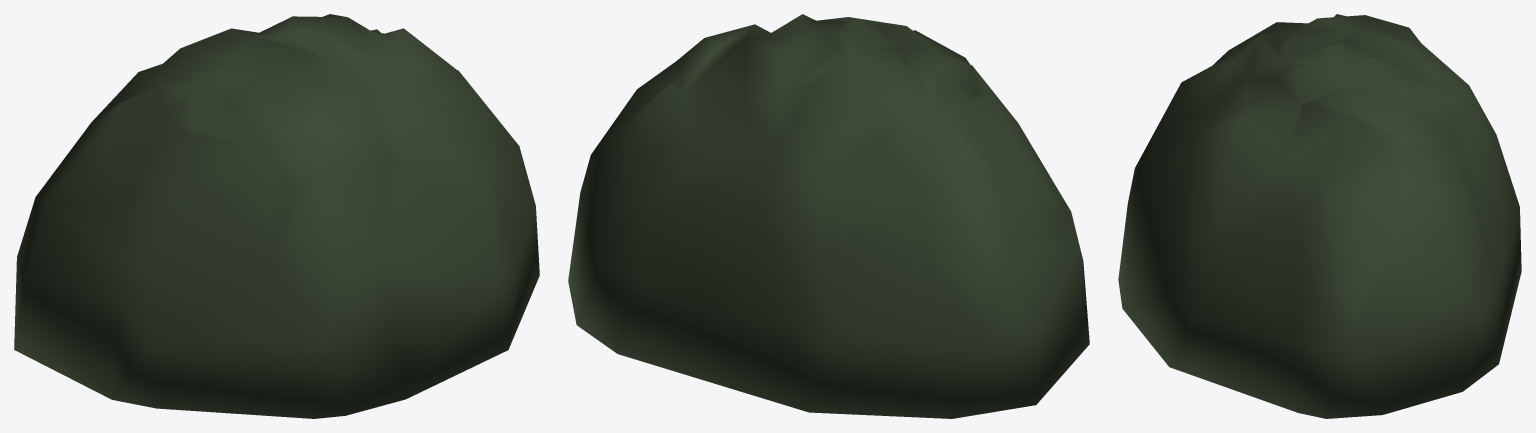
File: devonian-stromatoporoid.lod1.glb
The picture shows the model from 3 angles, left to right: view 1: azimuth 30°, elevation 25°; view 2: azimuth 150°, elevation 25°; view 3: azimuth 270°, elevation 25°; orthographic projection. The views are drawn at different scales.
Parts seen in each view (by area): view 1: devonian-stromatoporoid; view 2: devonian-stromatoporoid; view 3: devonian-stromatoporoid.
Part boxes in pixels (left/top/right/bottom): devonian-stromatoporoid: left=14, top=14, right=539, bottom=418; devonian-stromatoporoid: left=568, top=14, right=1089, bottom=418; devonian-stromatoporoid: left=1118, top=14, right=1521, bottom=418.
Bounding box in the file's own units: 1.24 × 0.7 × 0.9503.
